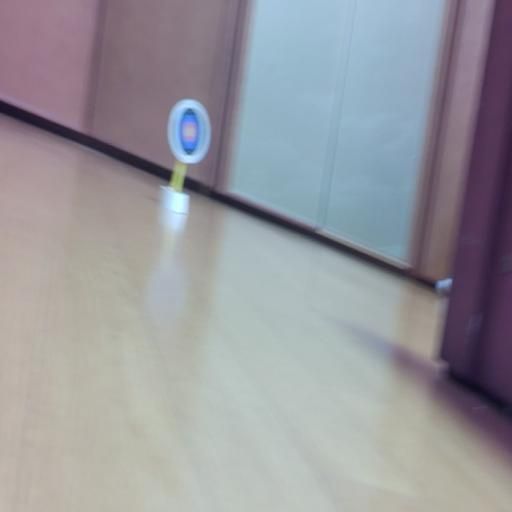target: (168, 100, 211, 165)
